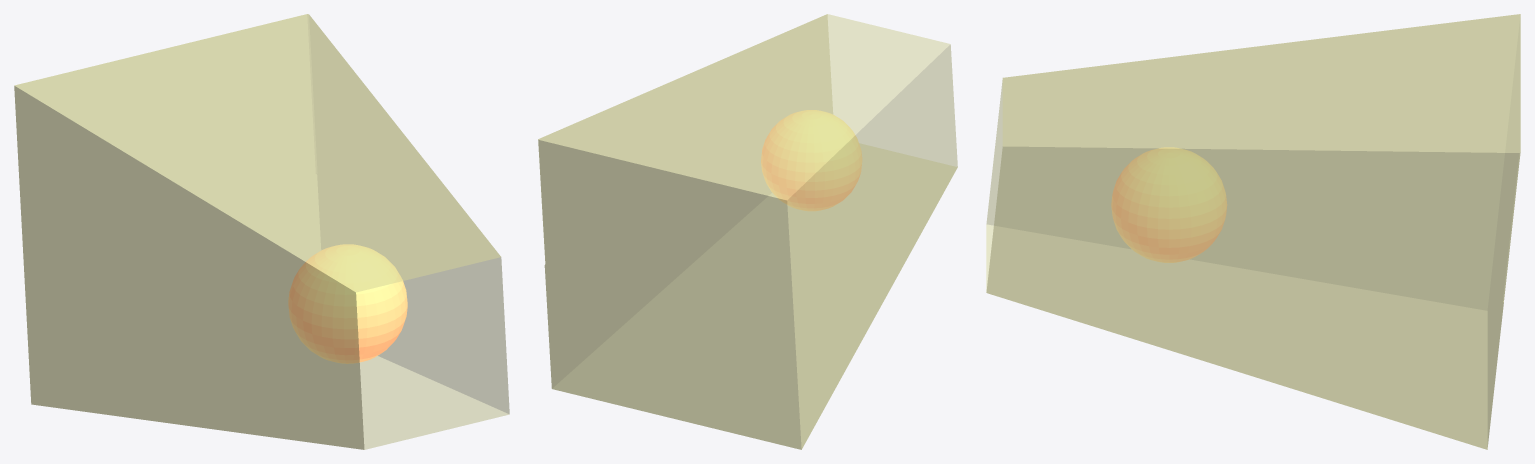
The model's file is lantern2.glb.
3 views of the same model, side by side, from view 1: azimuth 30°, elevation 25°; view 2: azimuth 150°, elevation 25°; view 3: azimuth 270°, elevation 25° (orthographic). The views are drawn at different scales.
Parts seen in each view (by area): view 1: Cube, 球; view 2: Cube, 球; view 3: Cube, 球.
Boxes of the visible parts, <box> form: Cube: <box>14,14,509,449</box>; 球: <box>288,244,407,363</box>; Cube: <box>538,14,957,449</box>; 球: <box>761,110,862,211</box>; Cube: <box>986,14,1520,449</box>; 球: <box>1111,147,1227,262</box>.
Size of the model in its own units: 3.5 by 3.48 by 5.68.
